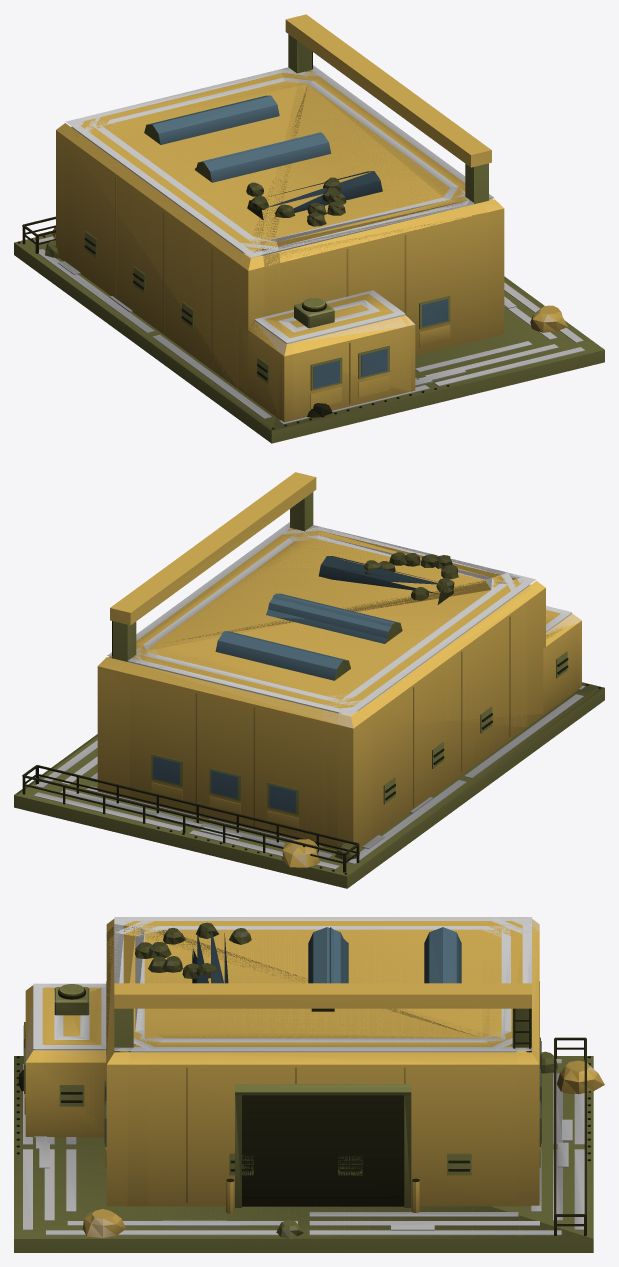
Rendered from meridian_vehicle_factory_damaged.glb.
3 views of the same model, one above another, from view 1: azimuth 30°, elevation 25°; view 2: azimuth 150°, elevation 25°; view 3: azimuth 270°, elevation 25° (orthographic). The views are drawn at different scales.
Visible parts, largest first — view 1: body (×3); view 2: body (×3); view 3: body (×3).
Part boxes in pixels (x1,y1,x2,y2): body (×3): (14, 14, 604, 443); body (×3): (14, 472, 604, 888); body (×3): (14, 917, 604, 1252).
Size of the model in its own units: 11.21 by 6.3 by 15.29.
